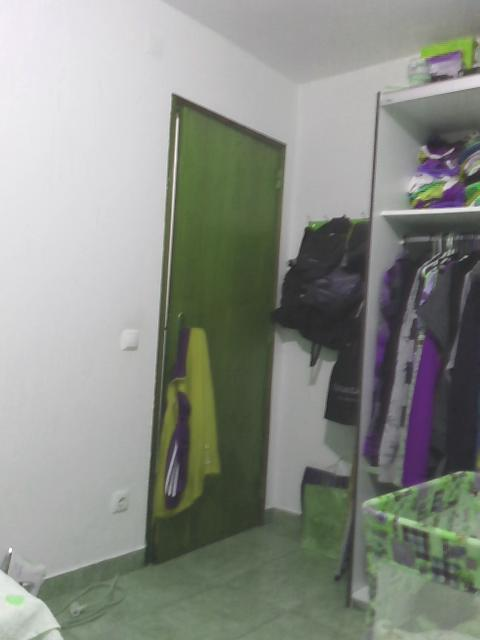closed_door: (144, 93, 284, 566)
